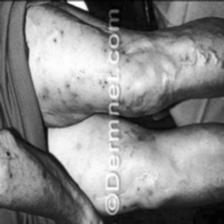Non-Cancerous Skin Condition: (178, 43, 224, 74), (131, 132, 151, 154), (52, 27, 66, 45), (40, 88, 48, 100), (64, 80, 72, 88)
